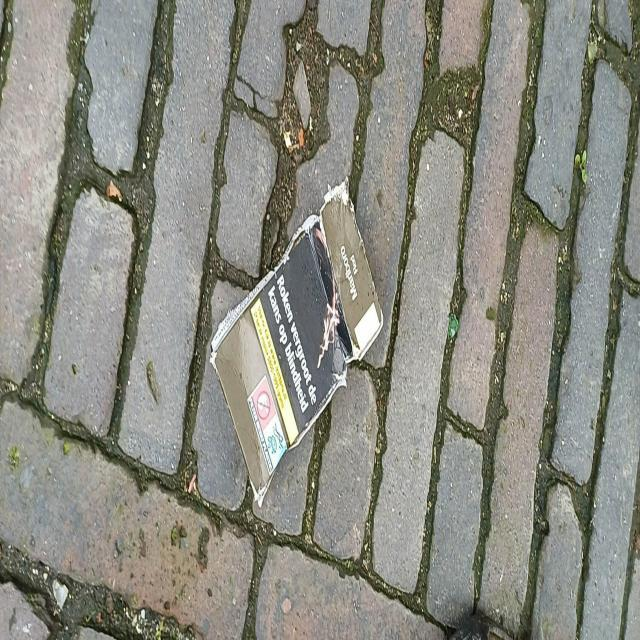Paper: (207, 173, 385, 512)
